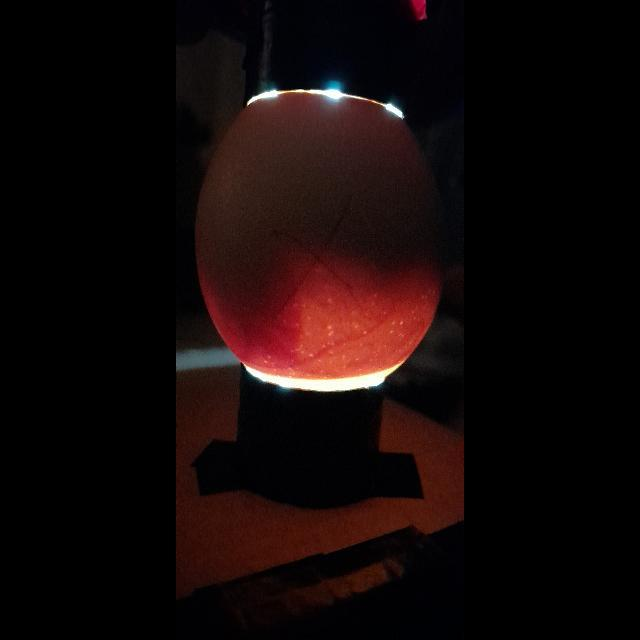Fertile: (199, 90, 441, 388)
